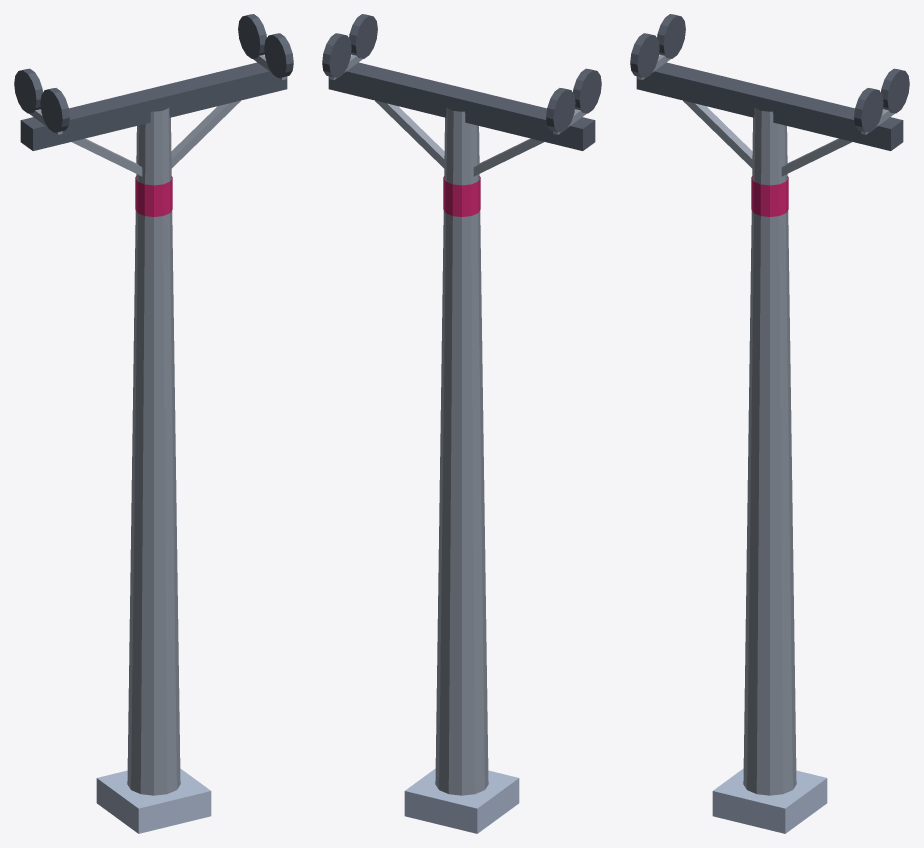
File: SKI_BG_LiftPylon-9oIp65MF.glb
3 renders of one model, left to right at view 1: azimuth 30°, elevation 25°; view 2: azimuth 150°, elevation 25°; view 3: azimuth 330°, elevation 25°, orthographic.
Visible parts, largest first — view 1: SKI_BG_LiftPylon; view 2: SKI_BG_LiftPylon; view 3: SKI_BG_LiftPylon.
Boxes of the visible parts, x1=… form: SKI_BG_LiftPylon: x1=14, y1=14, x2=293, y2=833; SKI_BG_LiftPylon: x1=322, y1=14, x2=601, y2=833; SKI_BG_LiftPylon: x1=630, y1=14, x2=909, y2=833.
Bounding box in the file's own units: 4.2 × 11.94 × 1.39.
Materials: 1 (1 with a texture image).
